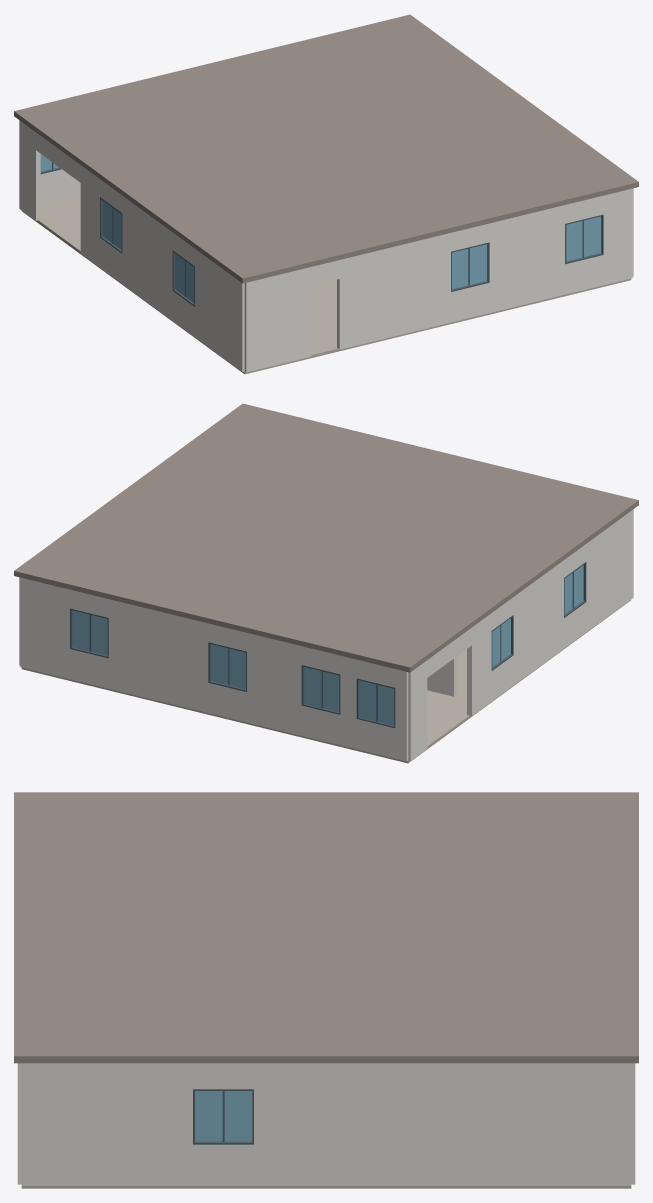
The model's file is aabith-villa-d3d6630e25.glb.
3 views of the same model, one above another, from view 1: azimuth 30°, elevation 25°; view 2: azimuth 150°, elevation 25°; view 3: azimuth 270°, elevation 25° (orthographic). The views are drawn at different scales.
Visible parts, largest first — view 1: roof_0, wall_0_15, wall_0_16, wall_0_14, floor_slab_0, wall_0_20, wall_0_21, wall_0_17, wall_0_18, wall_0_19, window_0_8_pane, window_0_6_pane (+11 smaller); view 2: roof_0, wall_0_3, wall_0_2, wall_0_20, wall_0_4, wall_0_21, floor_slab_0, wall_0_19, wall_0_18, wall_0_1, window_0_3_pane, window_0_0_pane (+17 smaller); view 3: roof_0, wall_0_32, wall_0_33, window_0_7_pane, wall_0_61, floor_slab_0, wall_0_60, wall_0_4, wall_0_17.
Part boxes in pixels (x1,y1,x2,y2): roof_0: (14, 14, 638, 283); wall_0_15: (337, 233, 450, 349); wall_0_16: (489, 205, 564, 312); wall_0_14: (244, 267, 310, 372); floor_slab_0: (22, 195, 631, 374); wall_0_20: (122, 196, 172, 320); wall_0_21: (195, 249, 244, 371); wall_0_17: (603, 188, 632, 284); wall_0_18: (19, 120, 40, 220); wall_0_19: (80, 165, 99, 267); window_0_8_pane: (566, 216, 601, 261); window_0_6_pane: (452, 244, 487, 289); roof_0: (14, 403, 638, 672); wall_0_3: (108, 599, 208, 712); wall_0_2: (247, 633, 301, 735); wall_0_20: (513, 560, 563, 685); wall_0_4: (20, 577, 69, 679); wall_0_21: (586, 509, 633, 631); floor_slab_0: (21, 600, 630, 763); wall_0_19: (467, 613, 491, 715); wall_0_18: (408, 660, 427, 760); wall_0_1: (340, 655, 356, 748); window_0_3_pane: (72, 610, 107, 655); window_0_0_pane: (359, 680, 394, 725); roof_0: (14, 792, 638, 1063); wall_0_32: (254, 1063, 631, 1185); wall_0_33: (21, 1063, 192, 1185); window_0_7_pane: (195, 1091, 252, 1141); wall_0_61: (193, 1144, 253, 1185); floor_slab_0: (21, 1186, 631, 1188); wall_0_60: (193, 1063, 253, 1089); wall_0_4: (631, 1063, 635, 1184); wall_0_17: (17, 1063, 21, 1184).
Size of the model in its own units: 41 by 9.8 by 41.
